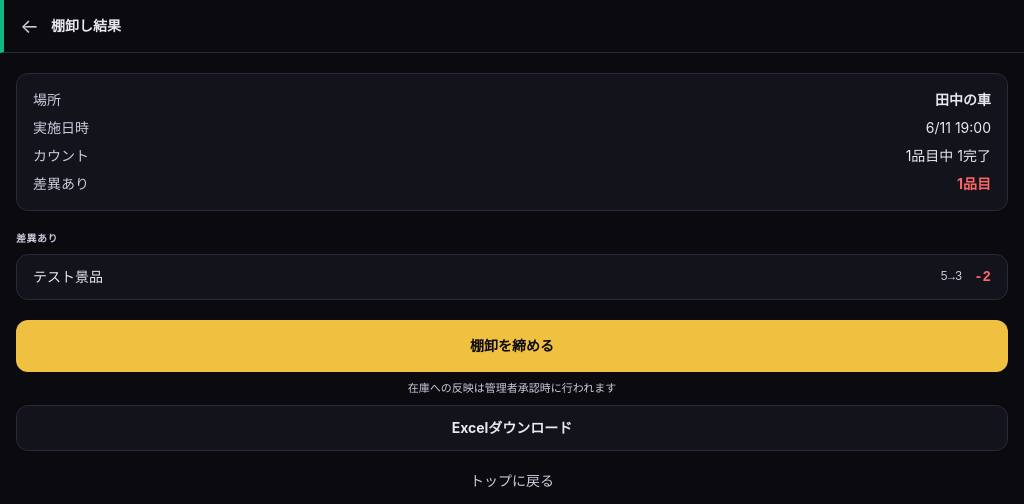
it: StocktakeSummary handleApply (SPEC-STOCKTAKE-COMPLETED-NO-STOCKWRITE-01) › when_applied_should_show_締め済み_banner
Click the button "棚卸を締める" at (512, 346), box [16,320,1008,372]
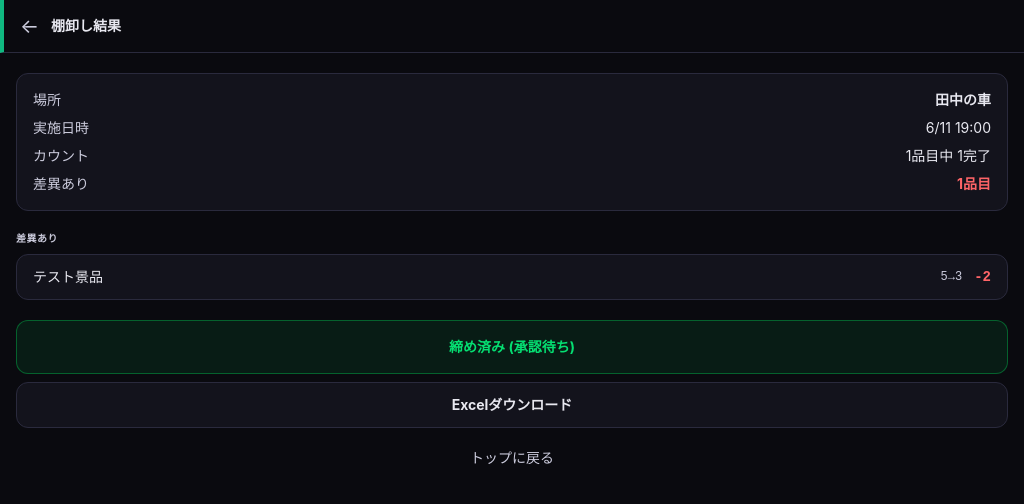
Expected: the text "締め済み (承認待ち)" is shown, [16,320,1008,374]
